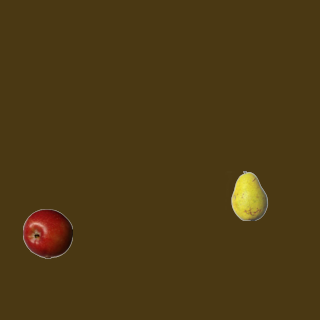Apple Braeburn: (22, 208, 72, 258)
Pear Monster: (224, 170, 274, 220)
